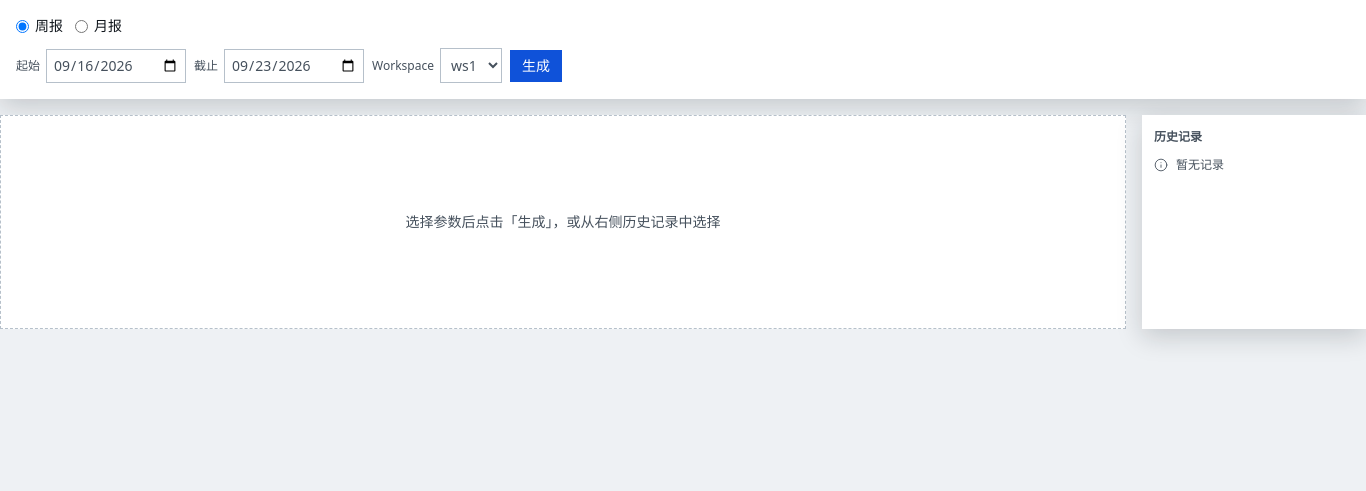
Test: ReportView › renders a weekly markdown result via MarkdownViewer body prop
Click the button with test id "report-generate" at (536, 66), box 510,50 -> 562,82
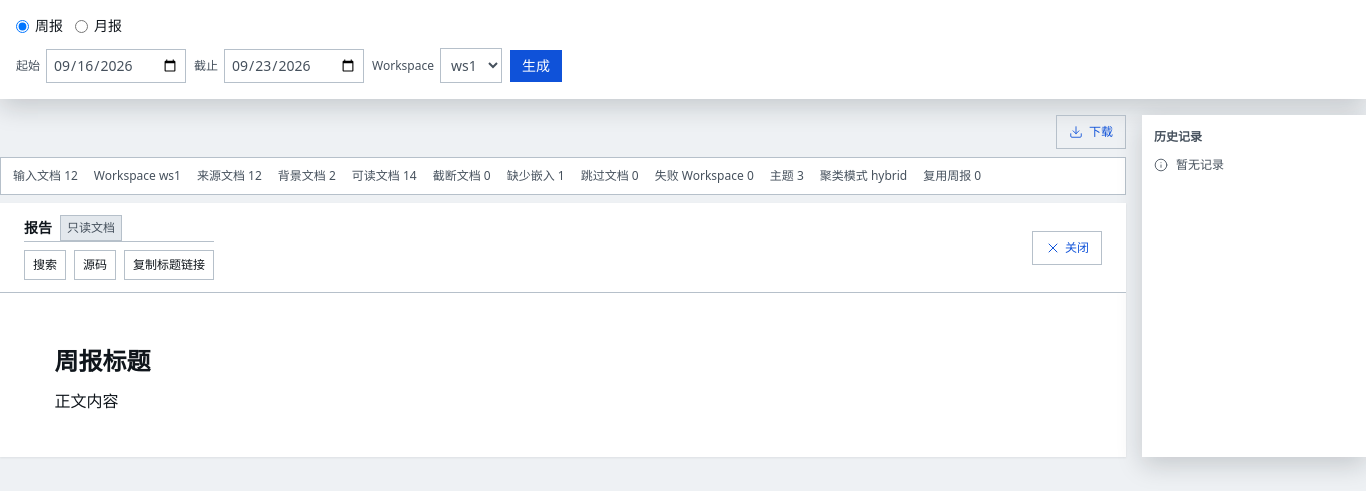
expect the heading "周报标题" is shown: met, box 54,344 -> 150,377
expect the button with test id "report-download" is shown: met, box 1056,115 -> 1126,149
expect the element with test id "report-coverage" shows "输入文档 12": met, box 0,157 -> 1126,195
